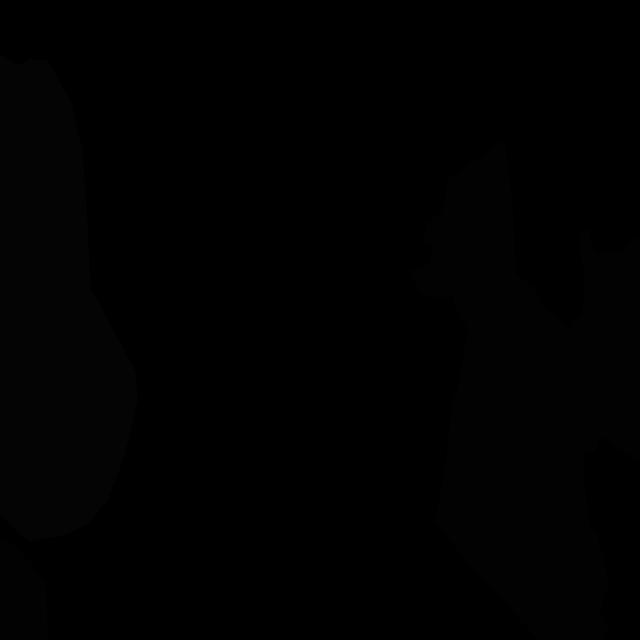cardboard: (408, 139, 640, 640), (571, 227, 640, 405), (0, 539, 48, 640)
soft_plastic: (0, 54, 138, 541)
